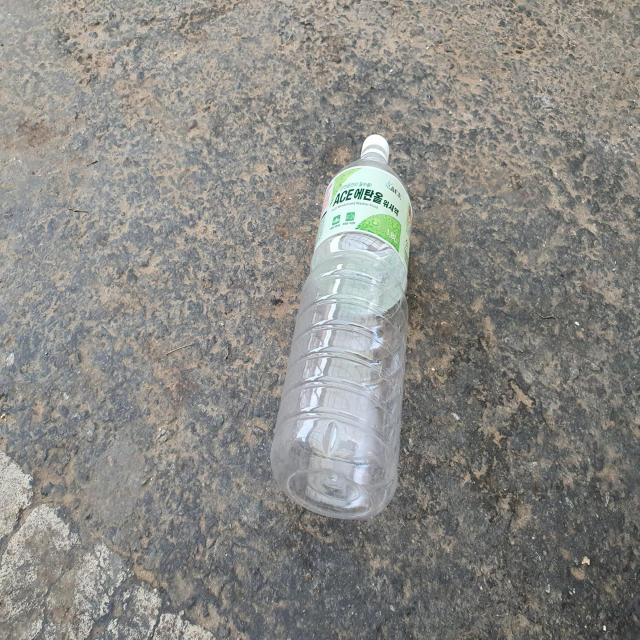plastic: (271, 134, 412, 519)
